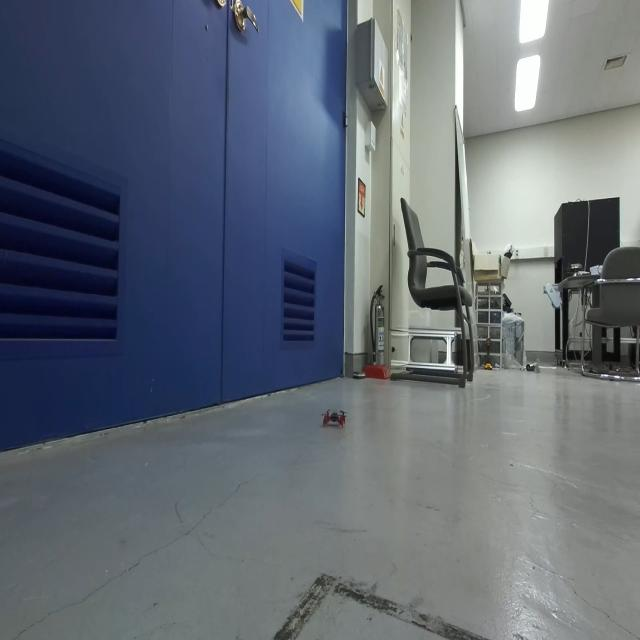crazyflie: (320, 404, 349, 432)
